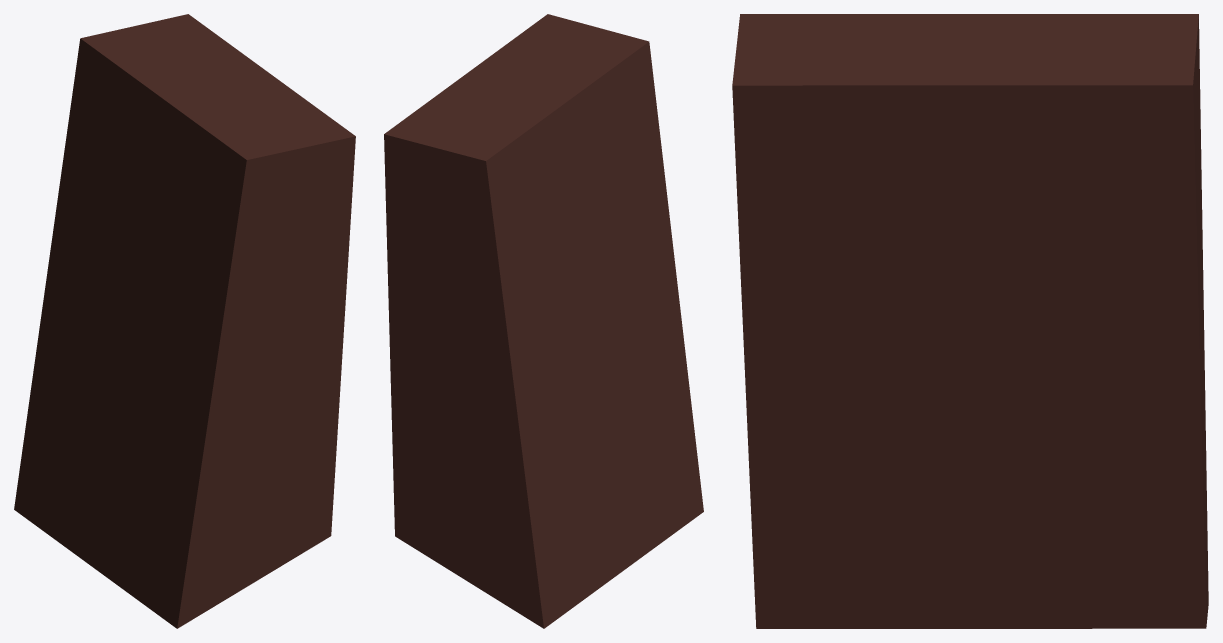
Rendered from Muro Barco izquierdo (Modelo).fbx.
3 views of the same model, side by side, from view 1: azimuth 30°, elevation 25°; view 2: azimuth 150°, elevation 25°; view 3: azimuth 270°, elevation 25° (orthographic). The views are drawn at different scales.
Visible parts, largest first — view 1: Objeto_Reparacion_medio1; view 2: Objeto_Reparacion_medio1; view 3: Objeto_Reparacion_medio1.
Boxes of the visible parts, <box> form: Objeto_Reparacion_medio1: <box>14,14,355,628</box>; Objeto_Reparacion_medio1: <box>384,14,703,628</box>; Objeto_Reparacion_medio1: <box>732,14,1208,628</box>.
Bounding box in the file's own units: 0.2495 × 0.6468 × 0.4419.
